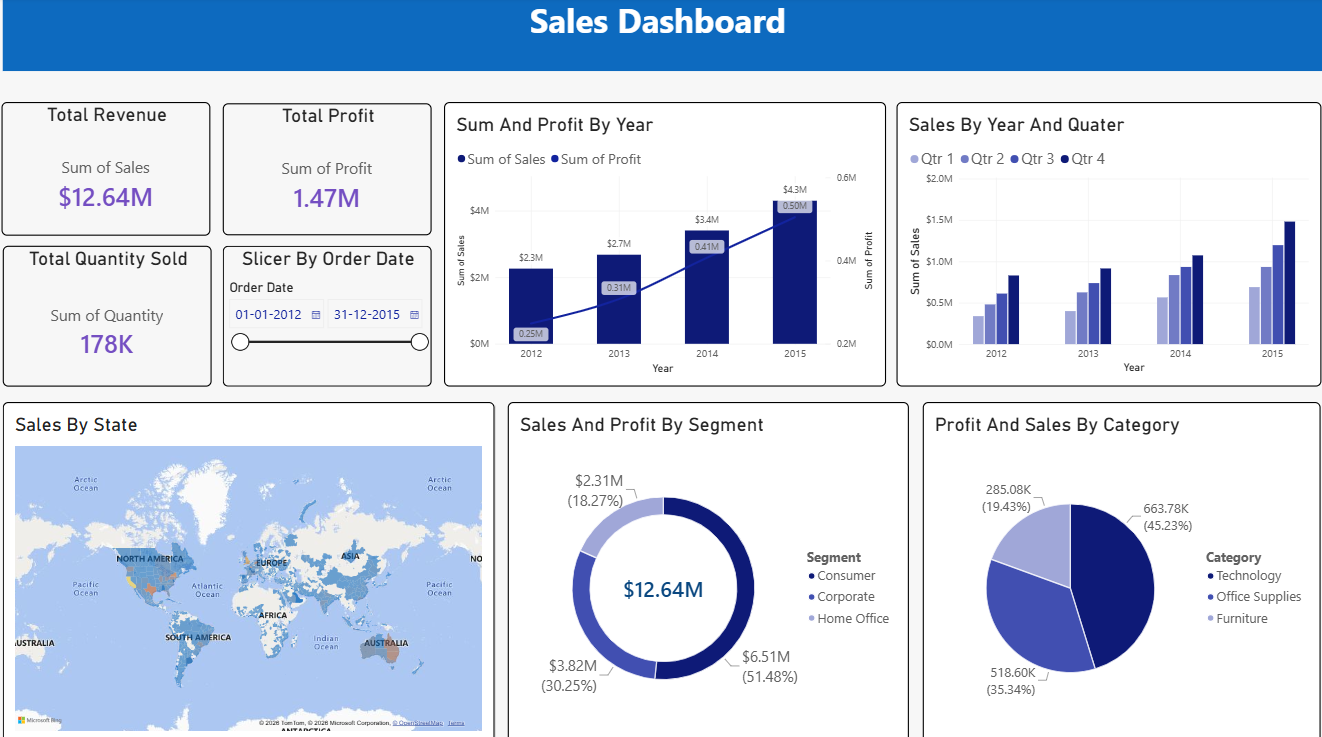

The page's visual inventory and layout, read from the dashboard file:
{"tool":"powerbi","page":{"name":"Overall Sales","canvas":[1920,1080],"ordinal":0},"visuals":[{"type":"textbox","box":[5,0,1910,107],"z":0},{"type":"cardVisual","title":"Total Revenue","fields":{"Data":["Sum(Orders.Sales)"]},"box":[4.1,152.3,302.6,193.5],"z":1},{"type":"cardVisual","title":"Total Quantity Sold","fields":{"Data":["Sum(Orders.Quantity)"]},"box":[6.2,360.2,302.6,203.8],"z":2},{"type":"cardVisual","title":"Total Profit","fields":{"Data":["Sum(Orders.Profit)"]},"box":[323.2,154.4,302.6,191.4],"z":3},{"type":"slicer","title":"Slicer By Order Date ","fields":{"Values":["Orders.Order Date"]},"box":[323.2,360.2,302.6,203.8],"z":4},{"type":"lineStackedColumnComboChart","title":"Sum And Profit By Year","fields":{"Category":["Orders.Order Date.Variation.Date Hierarchy.Year","Orders.Order Date.Variation.Date Hierarchy.Quarter","Orders.Order Date.Variation.Date Hierarchy.Month","Orders.Order Date.Variation.Date Hierarchy.Day"],"Y":["Sum(Orders.Sales)"],"Y2":["Sum(Orders.Profit)"]},"box":[644.3,152.3,640.1,411.7],"z":5},{"type":"clusteredColumnChart","title":"Sales By Year And Quater","fields":{"Category":["Orders.Year"],"Series":["Orders.Quarter"],"Y":["Sum(Orders.Sales)"]},"box":[1298.8,152.3,615.4,411.7],"z":6},{"type":"filledMap","title":"Sales By State","fields":{"Category":["Orders.State"]},"box":[6.2,586.6,712.2,494],"z":7},{"type":"donutChart","title":"Sales And Profit By Segment","fields":{"Category":["Orders.Segment"],"Y":["Sum(Orders.Sales)"]},"box":[736.9,586.6,580.4,494],"z":8},{"type":"pieChart","title":"Profit And Sales By Category","fields":{"Category":["Orders.Category"],"Y":["Sum(Orders.Profit)"]},"box":[1337.9,586.6,576.3,494],"z":9}]}

Visuals, with their boxes in screenshot pixels (x1, y1, x2, y2), scaled from the page's 1920x1080 canvas onto the 1322x737 screenshot:
textbox: bbox(3, 0, 1319, 73)
"Total Revenue" cardVisual: bbox(3, 104, 211, 236)
"Total Quantity Sold" cardVisual: bbox(4, 246, 213, 385)
"Total Profit" cardVisual: bbox(223, 105, 431, 236)
"Slicer By Order Date " slicer: bbox(223, 246, 431, 385)
"Sum And Profit By Year" lineStackedColumnComboChart: bbox(444, 104, 884, 385)
"Sales By Year And Quater" clusteredColumnChart: bbox(894, 104, 1318, 385)
"Sales By State" filledMap: bbox(4, 400, 495, 736)
"Sales And Profit By Segment" donutChart: bbox(507, 400, 907, 736)
"Profit And Sales By Category" pieChart: bbox(921, 400, 1318, 736)
